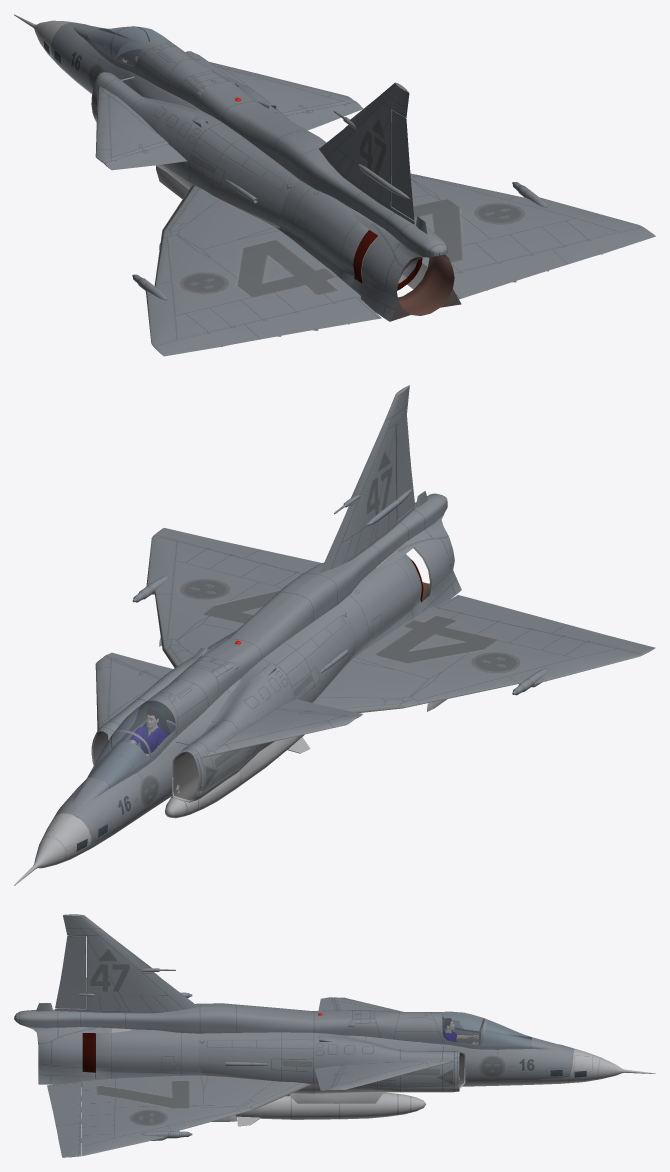
The picture shows the model from 3 angles, top to bottom: view 1: azimuth 30°, elevation 25°; view 2: azimuth 150°, elevation 25°; view 3: azimuth 270°, elevation 25°; orthographic projection. The views are drawn at different scales.
Parts seen in each view (by area): view 1: Line53-FACES, Line___01-FACES (×2), Line51-FACES, Circle__06-FACES (×2), Circle___-FACES, Line36-FACES, RUL_BOL02-FACES, RUL_BOL1-FACES, Cylinder01-FACES, Line55-FACES, Line54-FACES, Cylinder02-FACES (+4 smaller); view 2: Line53-FACES, Line___01-FACES (×2), Circle__06-FACES, Circle___-FACES (×2), Line51-FACES, Line36-FACES, Object01-FACES, RUL_BOL02-FACES, Line55-FACES, Cylinder01-FACES, Line54-FACES, RUL_BOL1-FACES (+3 smaller); view 3: Line___01-FACES (×2), Circle__06-FACES (×2), Line51-FACES, Circle___-FACES, Line36-FACES, Capsule04-FACES, Cylinder01-FACES, Object01-FACES, RUL_BOL1-FACES, RUL_NAPR-FACES, Line54-FACES, Box04-FACES (+2 smaller).
Part boxes in pixels (<box>): Line53-FACES: <box>145,185,360,344</box>; Line___01-FACES (×2): <box>73,24,447,257</box>; Line51-FACES: <box>410,173,640,273</box>; Circle__06-FACES (×2): <box>34,20,422,290</box>; Circle___-FACES: <box>91,51,299,228</box>; Line36-FACES: <box>319,82,414,224</box>; RUL_BOL02-FACES: <box>152,297,381,356</box>; RUL_BOL1-FACES: <box>453,226,655,299</box>; Cylinder01-FACES: <box>350,208,448,321</box>; Line55-FACES: <box>96,86,168,162</box>; Line54-FACES: <box>209,62,354,115</box>; Cylinder02-FACES: <box>361,235,454,315</box>; Line53-FACES: <box>312,606,641,710</box>; Line___01-FACES (×2): <box>73,491,447,804</box>; Circle__06-FACES: <box>34,554,423,868</box>; Circle___-FACES (×2): <box>91,604,357,802</box>; Line51-FACES: <box>146,536,301,665</box>; Line36-FACES: <box>319,385,415,573</box>; Object01-FACES: <box>88,701,175,782</box>; RUL_BOL02-FACES: <box>436,595,655,655</box>; Line55-FACES: <box>205,708,354,755</box>; Cylinder01-FACES: <box>376,514,461,611</box>; Line54-FACES: <box>96,657,159,727</box>; RUL_BOL1-FACES: <box>153,528,321,573</box>; Line___01-FACES (×2): <box>14,1003,560,1049</box>; Circle__06-FACES (×2): <box>82,1029,622,1096</box>; Line51-FACES: <box>81,1075,310,1155</box>; Circle___-FACES: <box>198,1021,465,1093</box>; Line36-FACES: <box>54,914,198,1013</box>; Capsule04-FACES: <box>235,1092,425,1126</box>; Cylinder01-FACES: <box>27,1027,111,1084</box>; Object01-FACES: <box>442,1011,531,1045</box>; RUL_BOL1-FACES: <box>47,1082,81,1157</box>; RUL_NAPR-FACES: <box>55,935,85,1008</box>; Line54-FACES: <box>333,1059,449,1090</box>; Box04-FACES: <box>289,1092,383,1103</box>.
Bounding box in the file's own units: 10.67 × 5.7 × 16.07.
36 materials, 16 textured.
